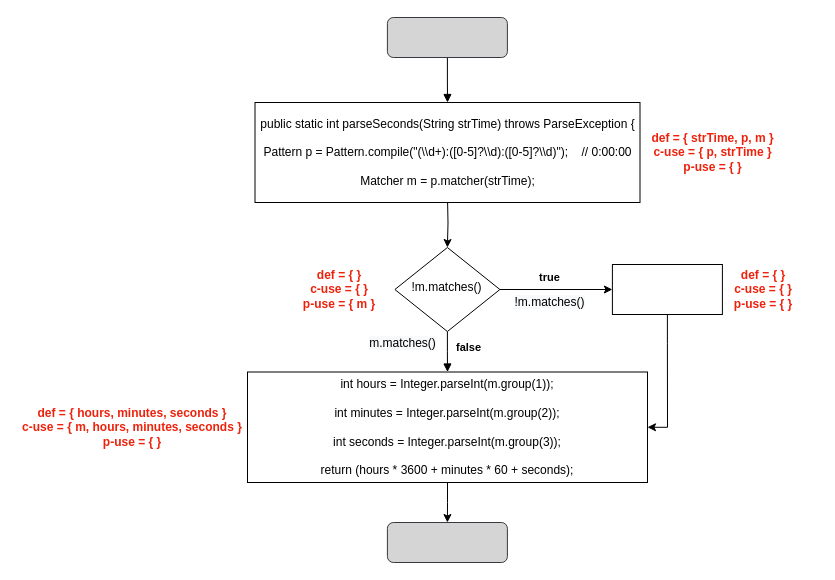
Some shapes in this 835 by 580 pixel diagram are drawn without their labels. Each missing label, with the centre of its shape:
end: the point at 446,542
entry: the point at 446,37
